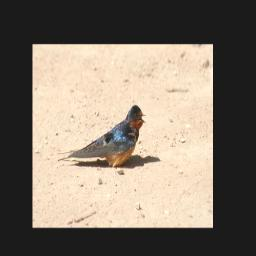Swallow: (57, 104, 146, 166)
